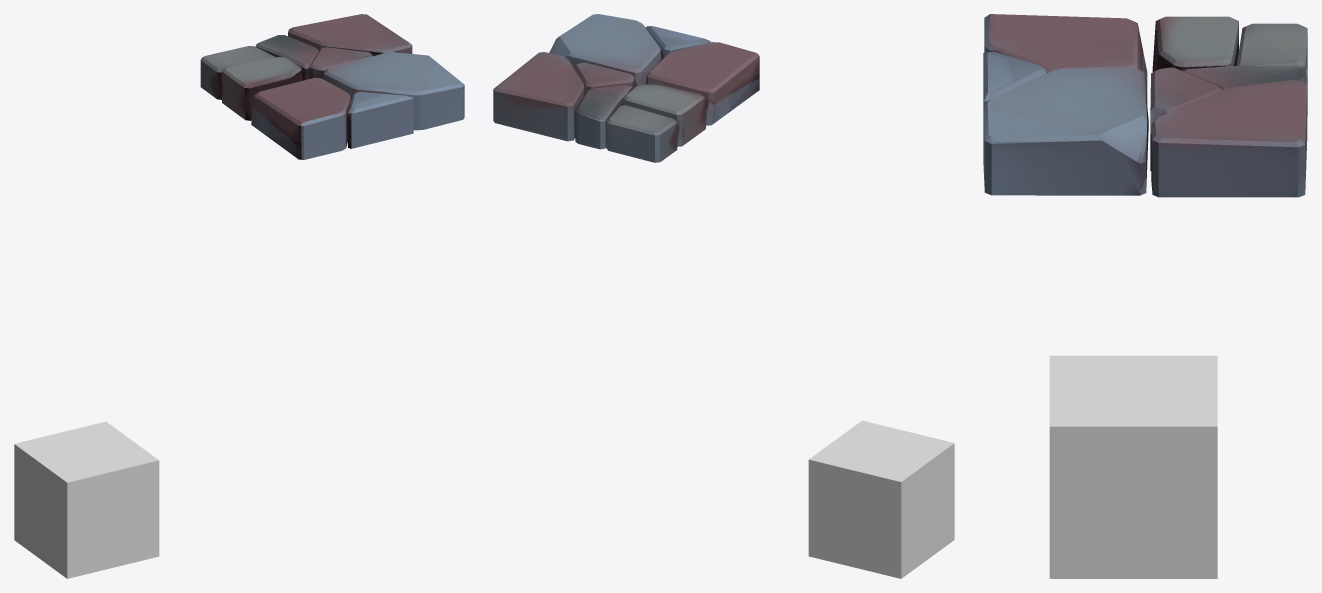
The model's file is home-floor009.fbx.
3 renders of one model, left to right at view 1: azimuth 30°, elevation 25°; view 2: azimuth 150°, elevation 25°; view 3: azimuth 270°, elevation 25°, orthographic. The views are drawn at different scales.
Parts seen in each view (by area): view 1: Plane.007, home-floor009; view 2: Plane.007, home-floor009; view 3: Plane.007, home-floor009.
Boxes of the visible parts, x1,y1,x2,y2 form: Plane.007: (200, 14, 464, 159); home-floor009: (14, 421, 159, 578); Plane.007: (493, 14, 759, 162); home-floor009: (808, 420, 954, 578); Plane.007: (983, 14, 1307, 197); home-floor009: (1049, 355, 1217, 578).
Size of the model in its own units: 451 by 477 by 211.
